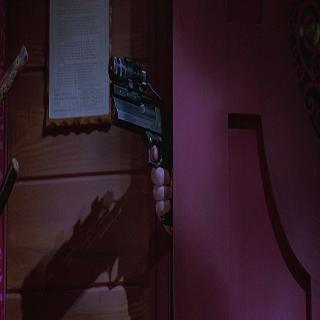gun: (109, 51, 177, 217)
